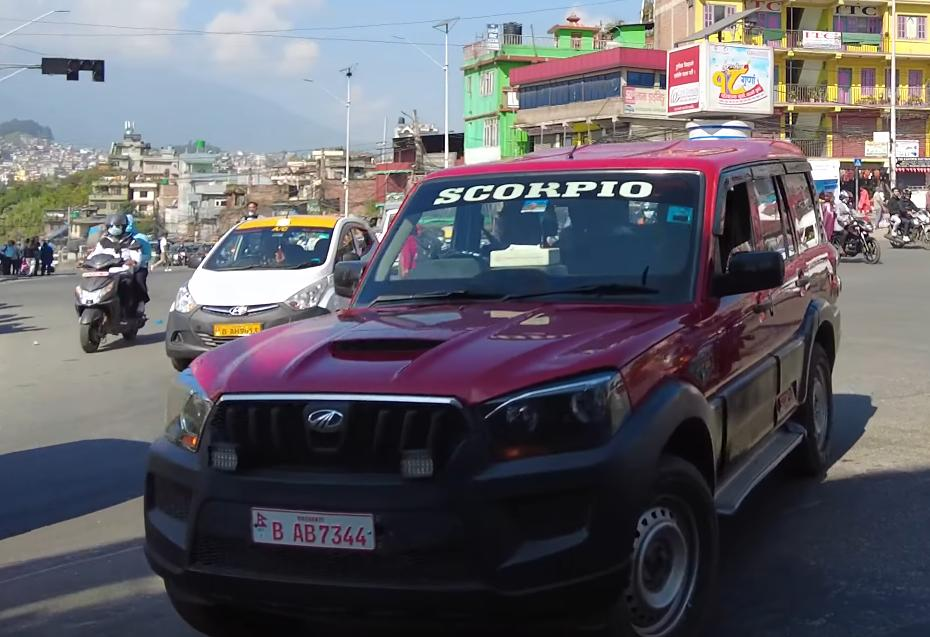SUV: (137, 131, 847, 632)
scooter: (70, 246, 148, 360)
taxi: (160, 209, 380, 368)
